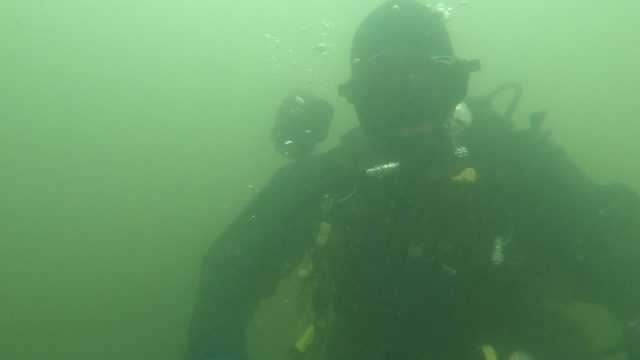Diver: (182, 4, 634, 354)
Head: (359, 8, 486, 199)
